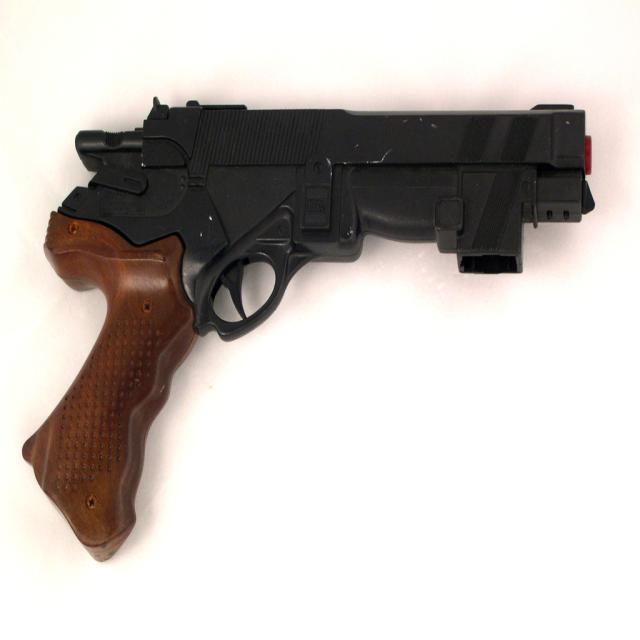Gun: (25, 99, 594, 556)
